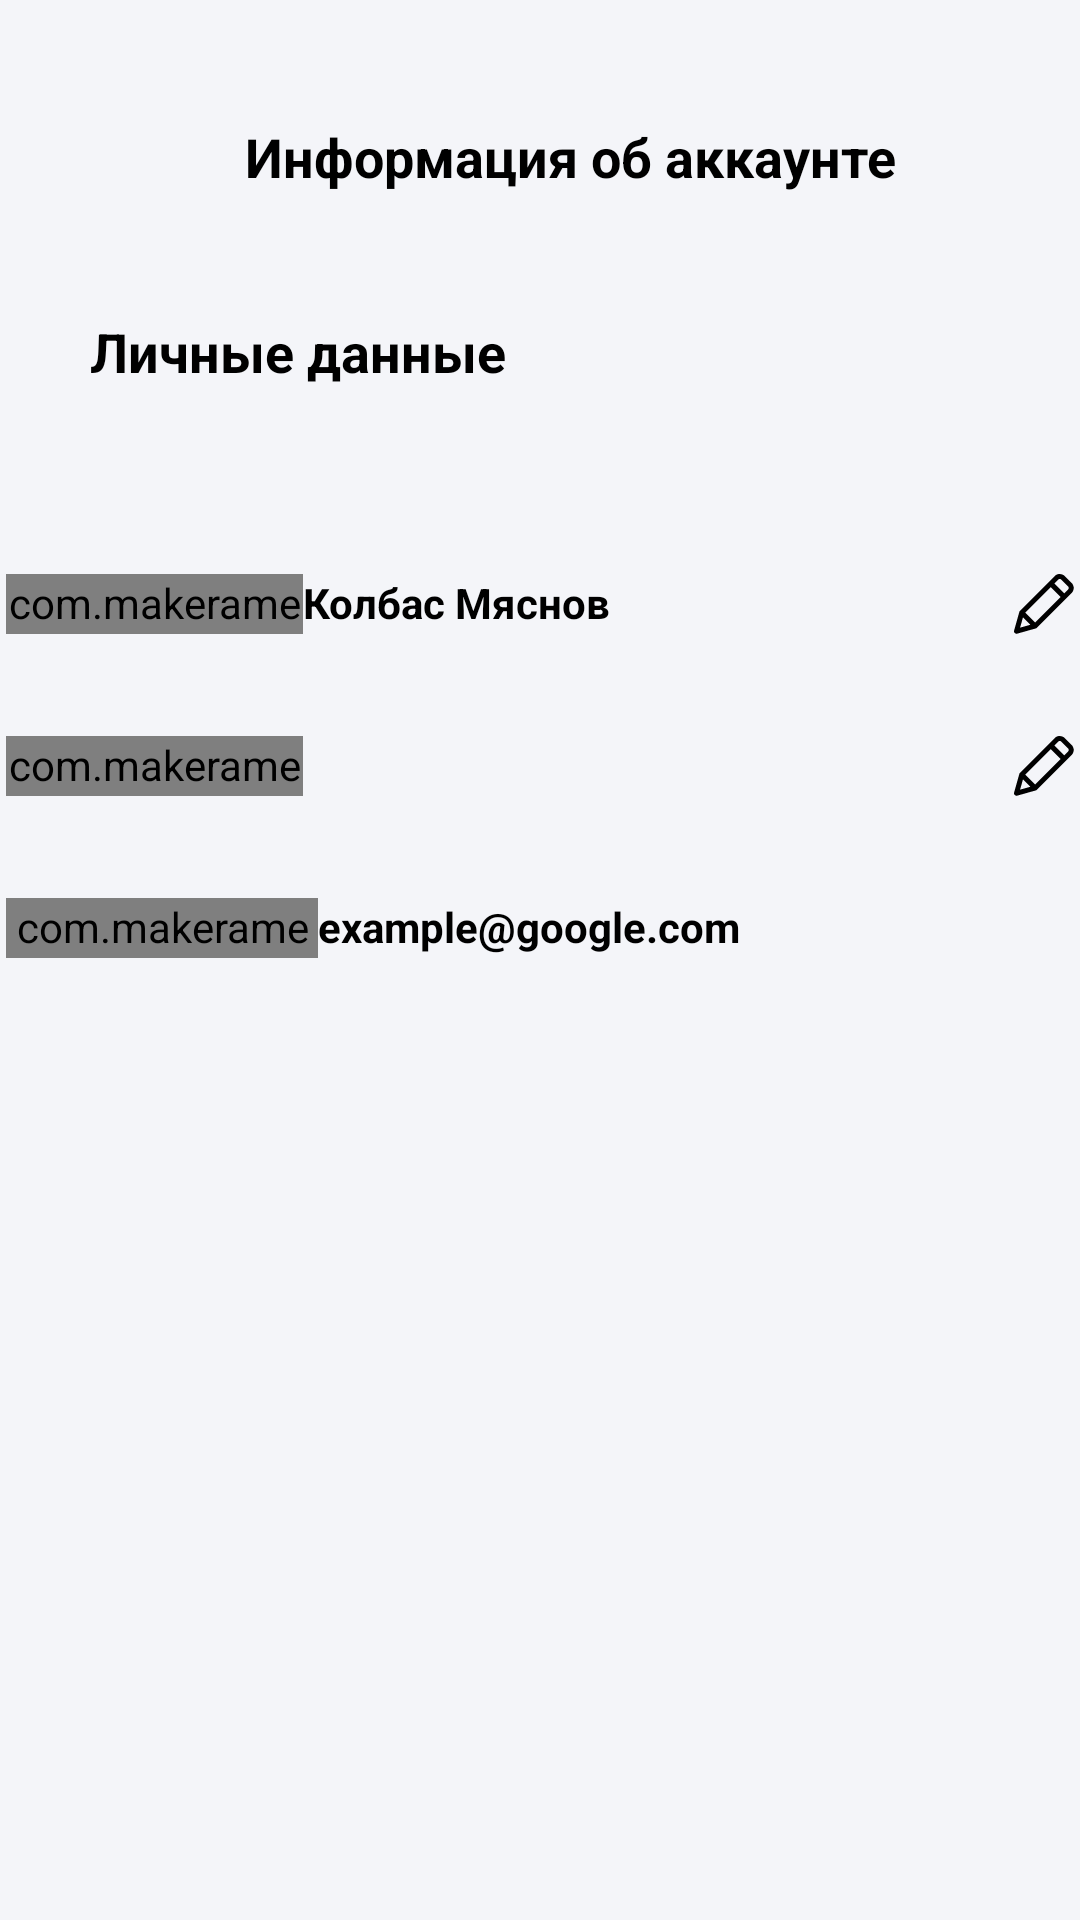

Named icons in this screenshot (1080px x 1920px) and their bounding boxes, [x1=x1, y1=y1, x2=x2, y2=y2]:
edit pen: [x1=1014, y1=574, x2=1074, y2=634], [x1=1014, y1=736, x2=1074, y2=796]
